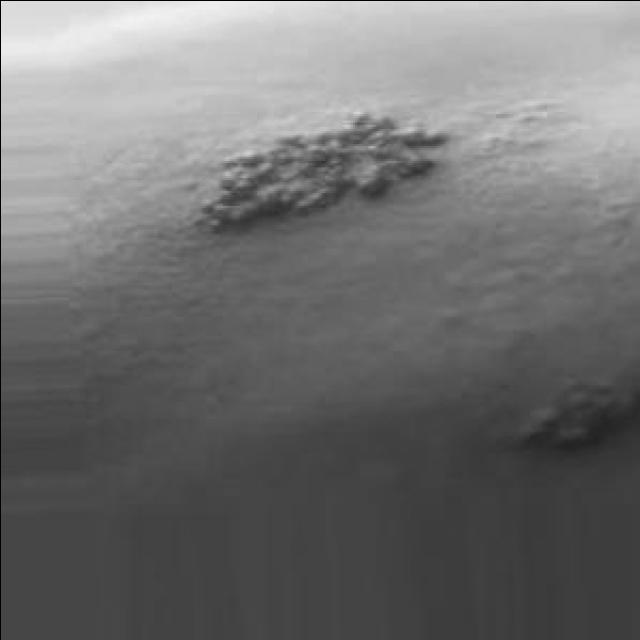Shingles: (202, 107, 448, 235), (520, 384, 640, 456)
